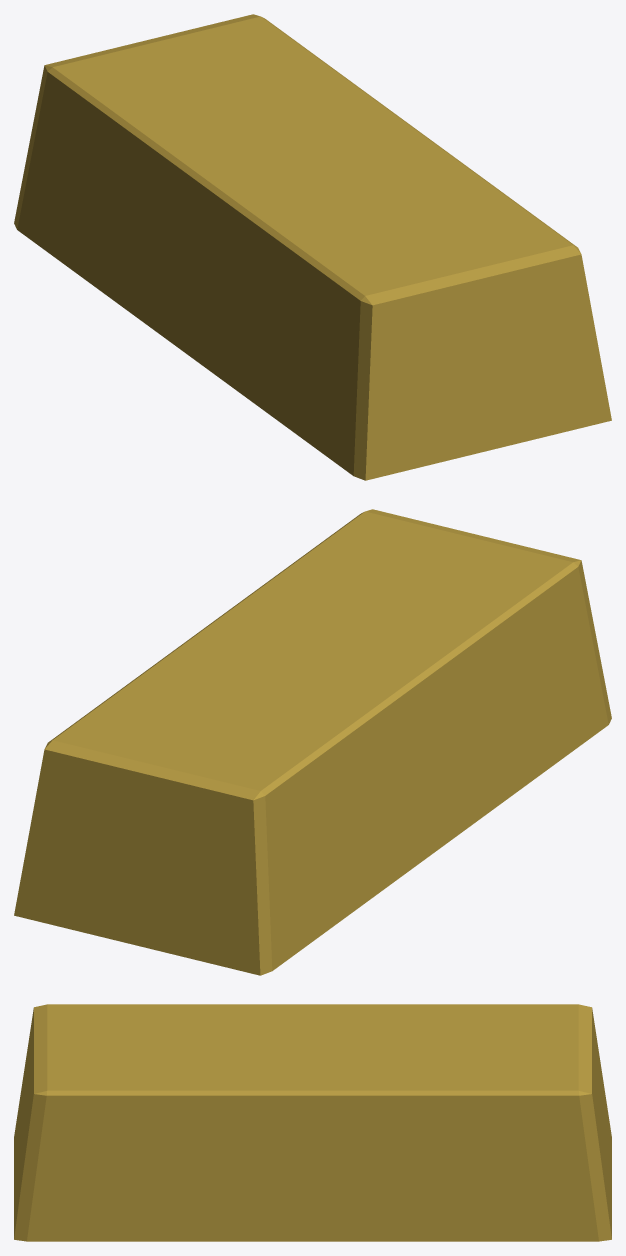
The model's file is GoldBar.fbx.
The picture shows the model from 3 angles, top to bottom: view 1: azimuth 30°, elevation 25°; view 2: azimuth 150°, elevation 25°; view 3: azimuth 270°, elevation 25°; orthographic projection. The views are drawn at different scales.
Visible parts, largest first — view 1: GoldBar; view 2: GoldBar; view 3: GoldBar.
Boxes of the visible parts, x1,y1,x2,y2 form: GoldBar: (14, 14, 611, 480); GoldBar: (14, 509, 611, 975); GoldBar: (14, 1004, 611, 1241).
Bounding box in the file's own units: 322 × 200 × 769.
